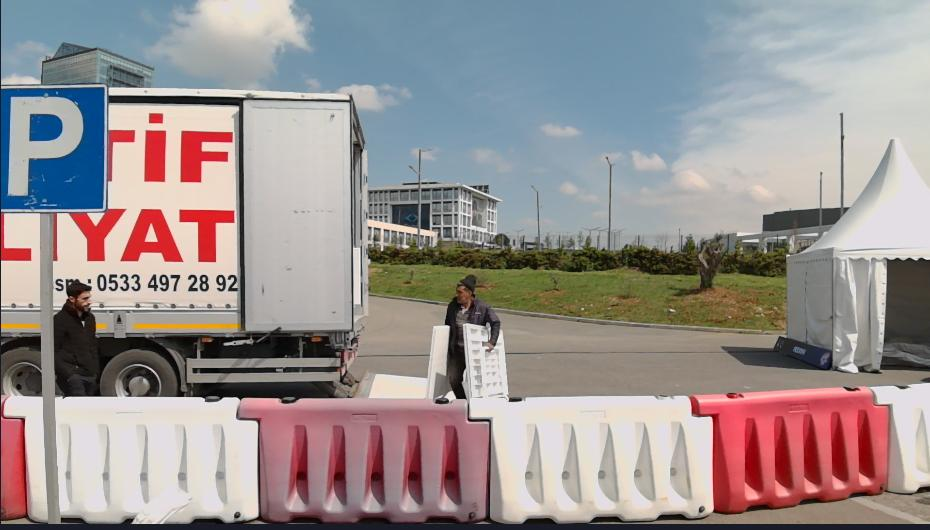nesne: (2, 141, 930, 284), (0, 84, 369, 394), (3, 397, 263, 524), (470, 396, 717, 524), (240, 399, 492, 524), (692, 388, 891, 512), (1, 84, 110, 211), (443, 273, 513, 402), (49, 278, 104, 400), (869, 382, 929, 490)
